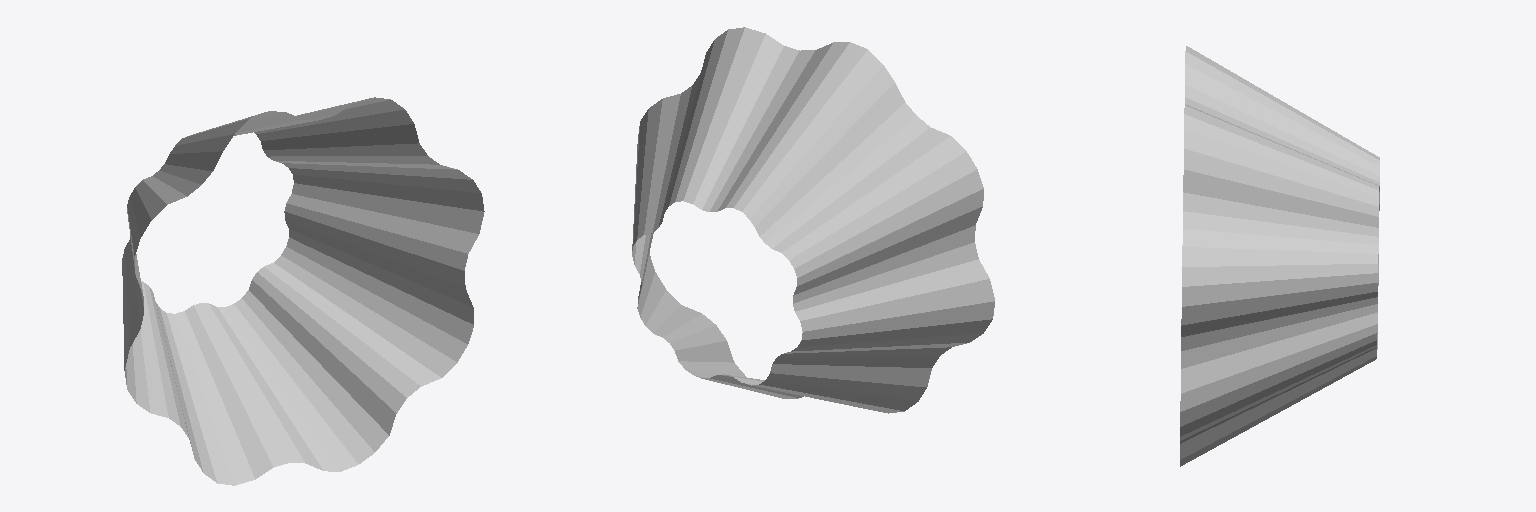
The model's file is skyring1.obj.
3 renders of one model, left to right at view 1: azimuth 30°, elevation 25°; view 2: azimuth 150°, elevation 25°; view 3: azimuth 270°, elevation 25°, orthographic.
Parts seen in each view (by area): view 1: Fountain_of__Dreams.003; view 2: Fountain_of__Dreams.003; view 3: Fountain_of__Dreams.003.
Part boxes in pixels (x1,y1,x2,y2): Fountain_of__Dreams.003: (122,97,484,485); Fountain_of__Dreams.003: (632,27,994,413); Fountain_of__Dreams.003: (1180,46,1379,466).
Size of the model in its own units: 32.59 by 32.59 by 15.73.